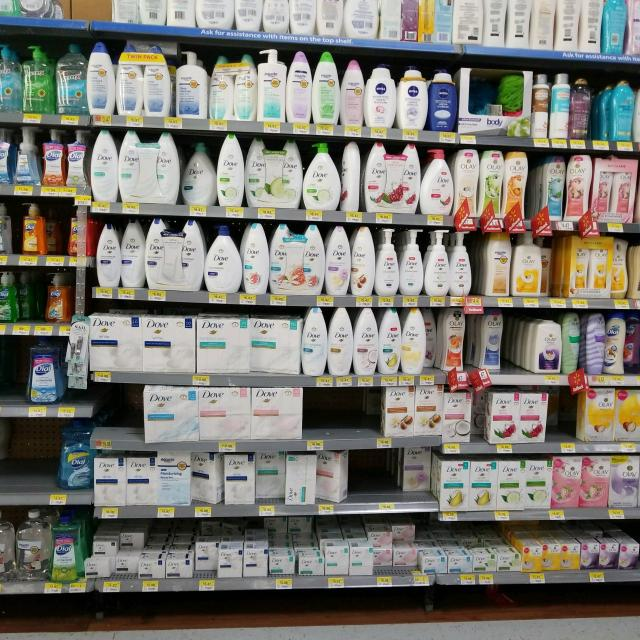void: (102, 385, 140, 450), (28, 420, 55, 505), (0, 424, 25, 506), (371, 450, 402, 514), (350, 389, 380, 448), (506, 310, 527, 384), (0, 339, 19, 418), (22, 268, 44, 336), (543, 232, 561, 313), (304, 386, 326, 450), (552, 391, 574, 453), (327, 388, 348, 448), (350, 452, 370, 514)
